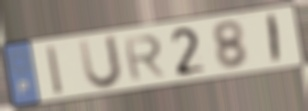2: (169, 26, 208, 78)
8: (211, 18, 252, 72)
I: (44, 43, 67, 98), (266, 11, 283, 66)
R: (121, 33, 168, 83)
U: (76, 32, 125, 92)
